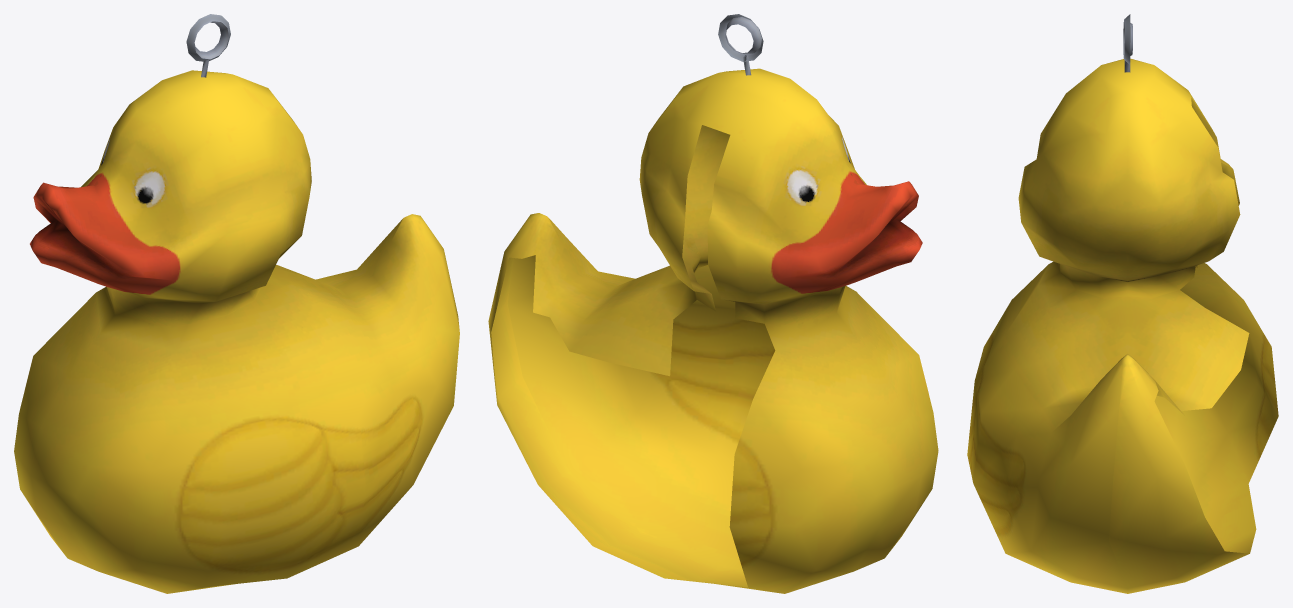
File: Rubber Hook Duck.dae
3 renders of one model, left to right at view 1: azimuth 30°, elevation 25°; view 2: azimuth 150°, elevation 25°; view 3: azimuth 270°, elevation 25°, orthographic. The views are drawn at different scales.
Visible parts, largest first — view 1: Rubber Hook Duck; view 2: Rubber Hook Duck; view 3: Rubber Hook Duck.
Boxes of the visible parts, box(x1,y1,x2,y2) form: Rubber Hook Duck: box(14, 14, 459, 593); Rubber Hook Duck: box(488, 14, 938, 593); Rubber Hook Duck: box(967, 14, 1278, 593).
Bounding box in the file's own units: 4.6 × 3.02 × 5.82.
1 material, 1 textured.
